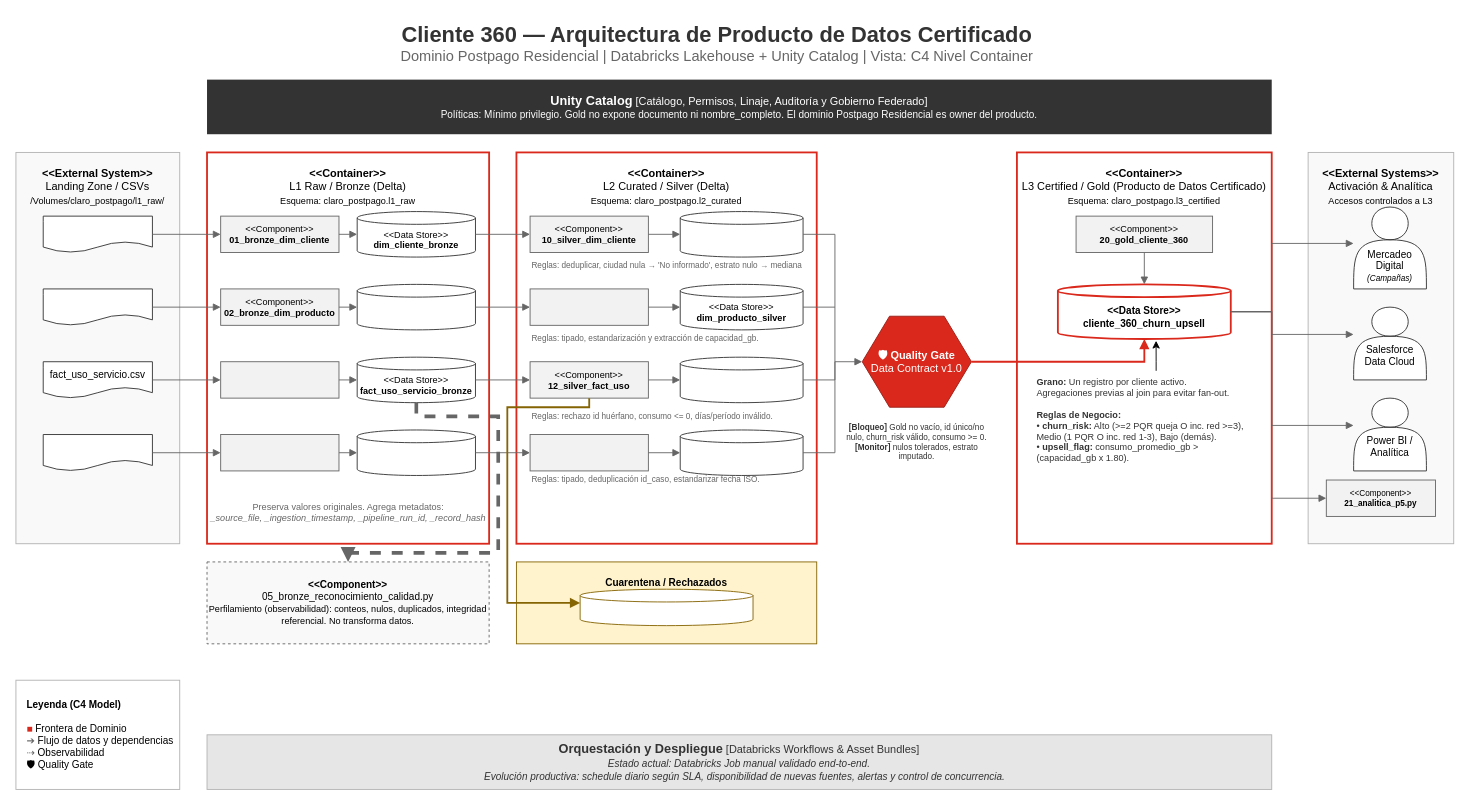
Image size: 1470x805. Some labels were removed from this diagram. The centre of each missing label's shape, as x and y in pixels:
"<<Component>> 03_bronze_fact_uso" goes at pixel 279 379.
"<<Component>> 04_bronze_fact_pqr" goes at pixel 279 452.
"<<Component>> 11_silver_dim_producto" goes at pixel 588 306.
"<<Component>> 13_silver_fact_pqr" goes at pixel 588 452.
"<<Data Store>> dim_cliente_silver" goes at pixel 741 234.
"<<Data Store>> dim_producto_bronze" goes at pixel 415 306.
"<<Data Store>> fact_pqr_bronze" goes at pixel 415 452.
"<<Data Store>> fact_pqr_silver" goes at pixel 741 452.
"<<Data Store>> fact_uso_servicio_rechazados" goes at pixel 666 607.
"<<Data Store>> fact_uso_servicio_silver" goes at pixel 741 379.
"dim_cliente.csv" goes at pixel 97 234.
"dim_producto.csv" goes at pixel 97 306.
"fact_pqr.csv" goes at pixel 97 452.
